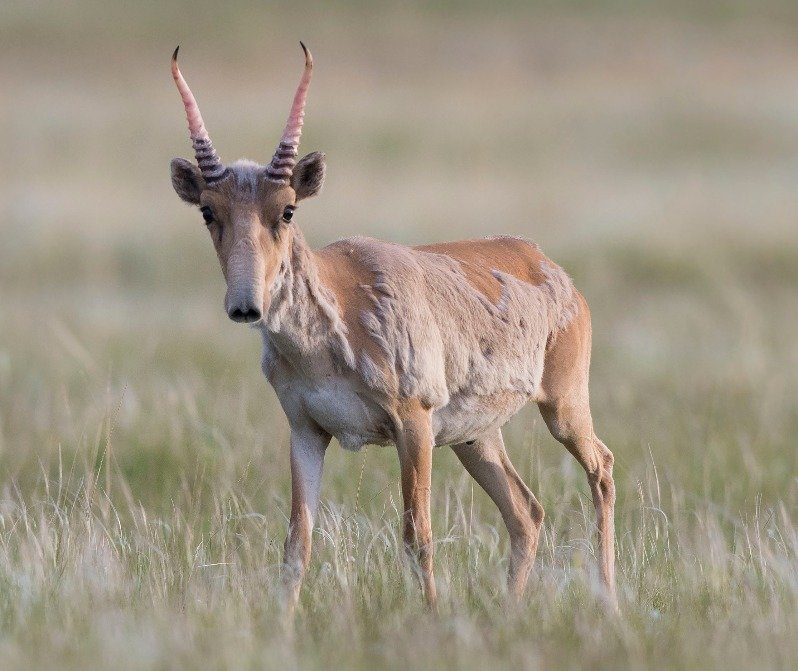saiga: (163, 42, 621, 631)
